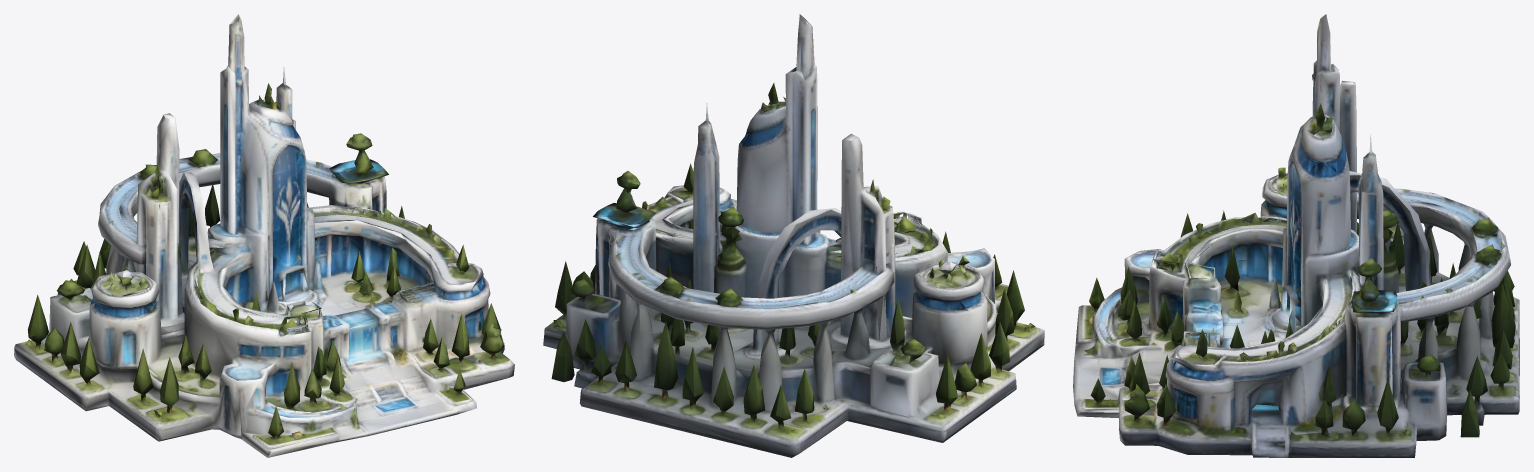
File: HL_Unity_CommandCenter_v01_retopo.glb
3 views of the same model, side by side, from view 1: azimuth 30°, elevation 25°; view 2: azimuth 150°, elevation 25°; view 3: azimuth 270°, elevation 25° (orthographic). The views are drawn at different scales.
Visible parts, largest first — view 1: HL_Unity_CommandCenter_v01_retopo; view 2: HL_Unity_CommandCenter_v01_retopo; view 3: HL_Unity_CommandCenter_v01_retopo.
Boxes of the visible parts, x1,y1,x2,y2 form: HL_Unity_CommandCenter_v01_retopo: [14, 14, 514, 457]; HL_Unity_CommandCenter_v01_retopo: [543, 14, 1044, 457]; HL_Unity_CommandCenter_v01_retopo: [1073, 14, 1519, 457].
Bounding box in the file's own units: 0.9793 × 0.8001 × 0.9429.
1 material, 1 textured.
